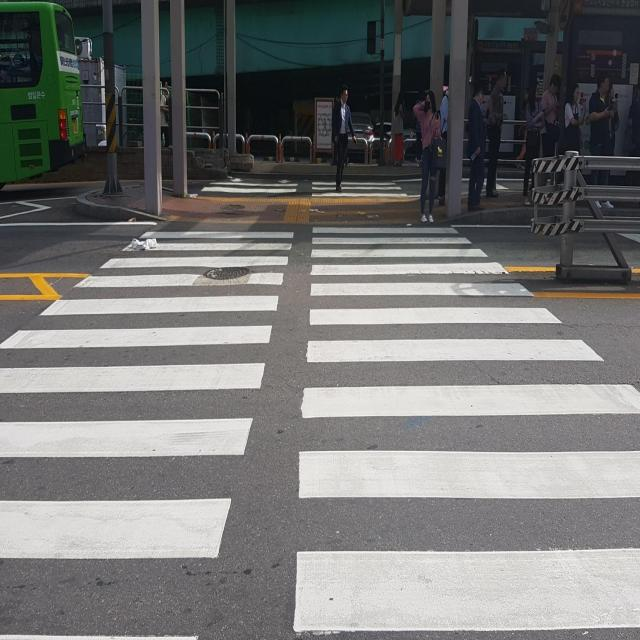횡단보도: (0, 226, 640, 640), (201, 181, 409, 198)
